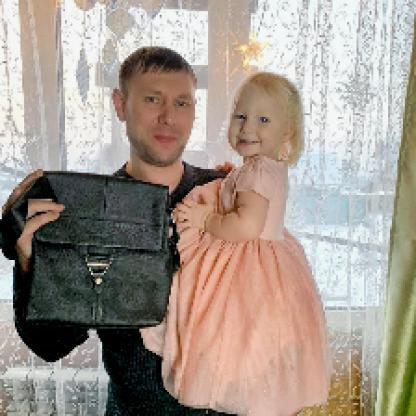child: (170, 72, 334, 416)
